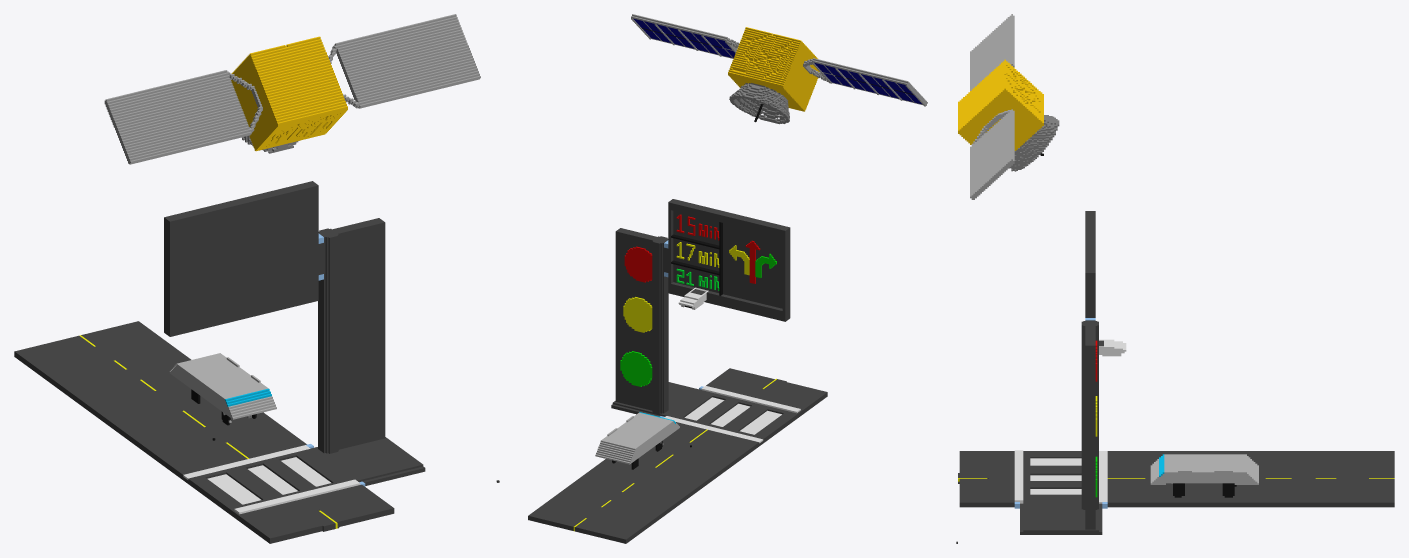
File: cyrus_satellite.gltf
The picture shows the model from 3 angles, left to right: view 1: azimuth 30°, elevation 25°; view 2: azimuth 150°, elevation 25°; view 3: azimuth 270°, elevation 25°; orthographic projection. The views are drawn at different scales.
Parts seen in each view (by area): view 1: Untitled; view 2: Untitled; view 3: Untitled.
Boxes of the visible parts, <box> form: Untitled: <box>14,14,499,543</box>; Untitled: <box>528,14,927,543</box>; Untitled: <box>956,14,1394,543</box>.
Size of the model in its own units: 20.6 by 25.6 by 25.5.
Materials: 1 (1 with a texture image).
